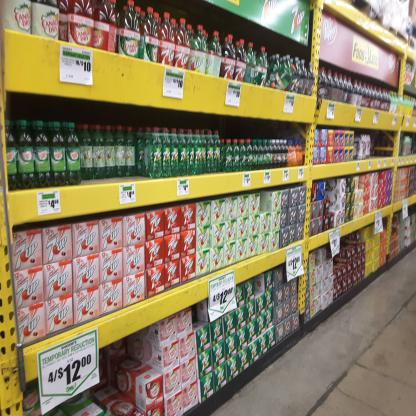Void: (112, 344, 158, 378), (82, 178, 143, 183), (192, 308, 204, 323), (254, 280, 264, 294)
